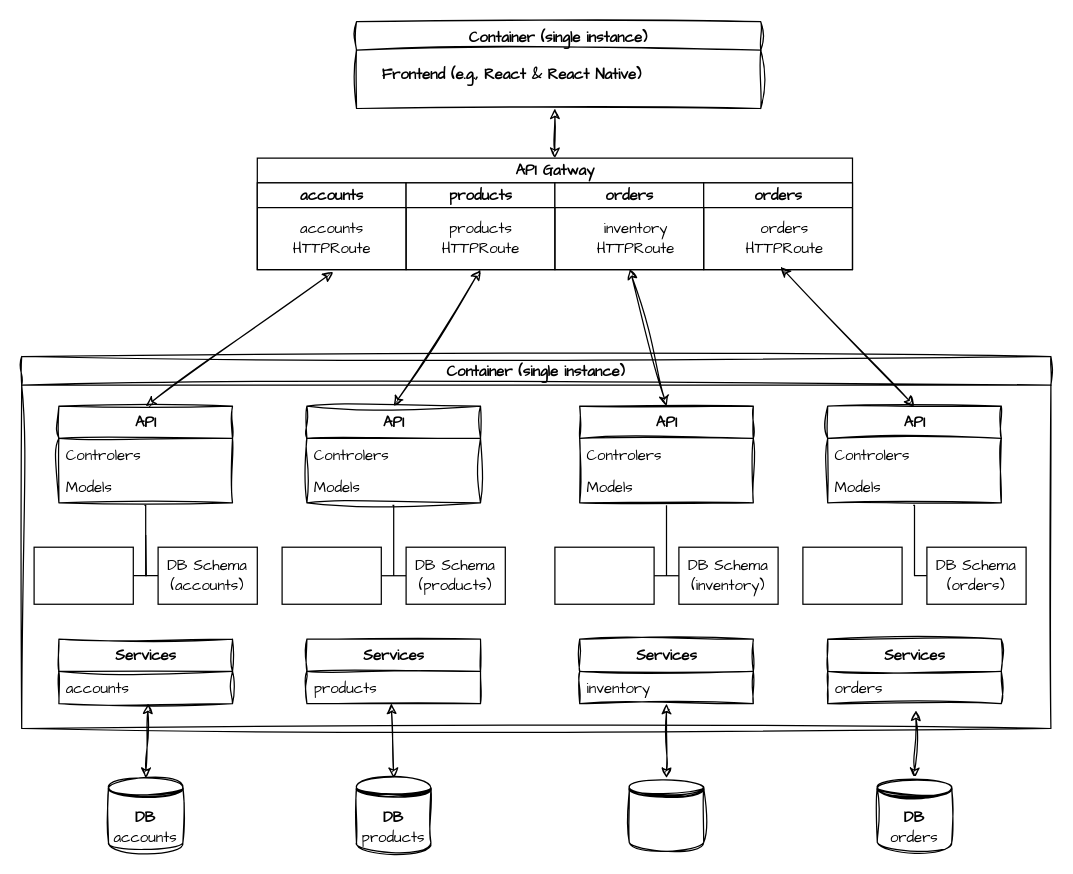
The diagram is 1073 pixels wide and 874 high, and some of its shapes have lost their labels. Each missing label, with the centre of its shape:
"DB inventory" goes at [666,814].
"Libraries (accounts)" goes at [83,575].
"Libraries (inventory)" goes at [604,575].
"Libraries (orders)" goes at [852,575].
"Libraries (products)" goes at [331,575].
